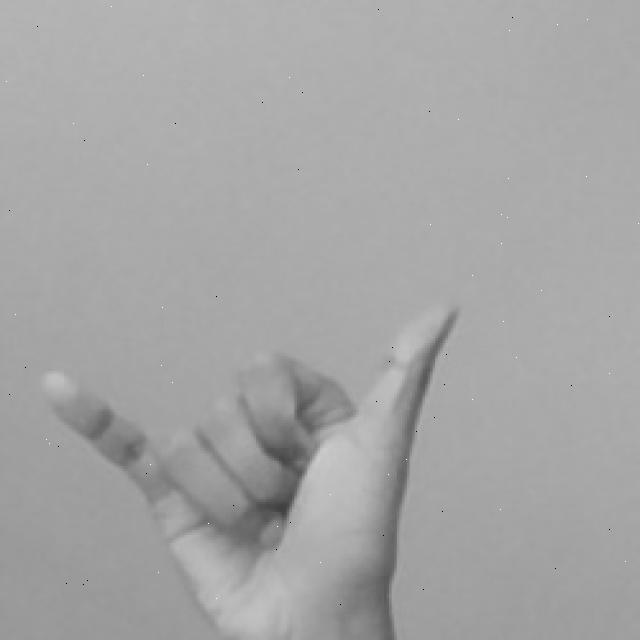Y: (36, 292, 468, 640)
